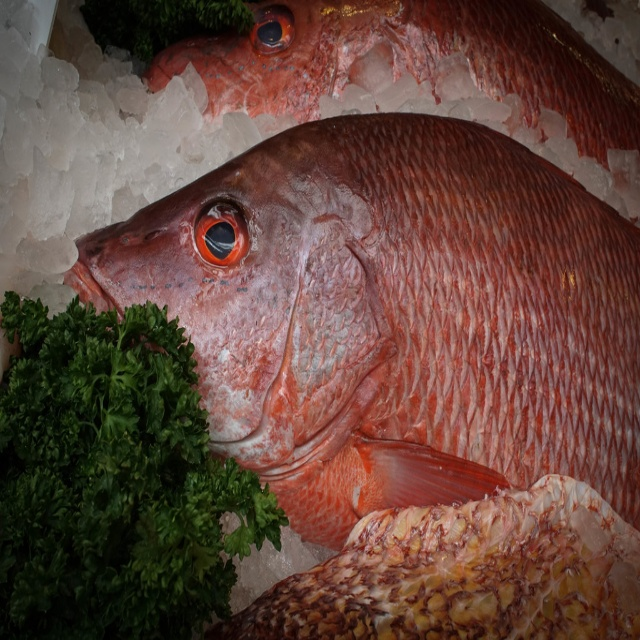Fish: (62, 113, 640, 552)
